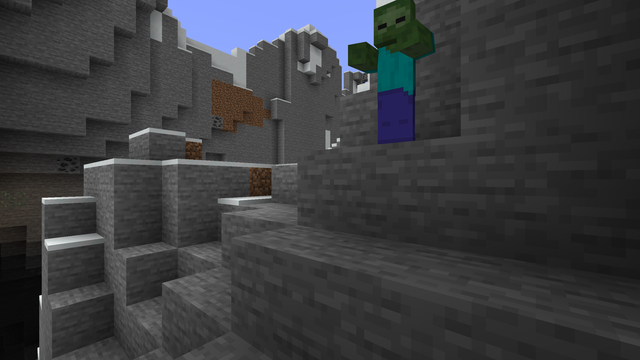zombies: (368, 0, 422, 124)
